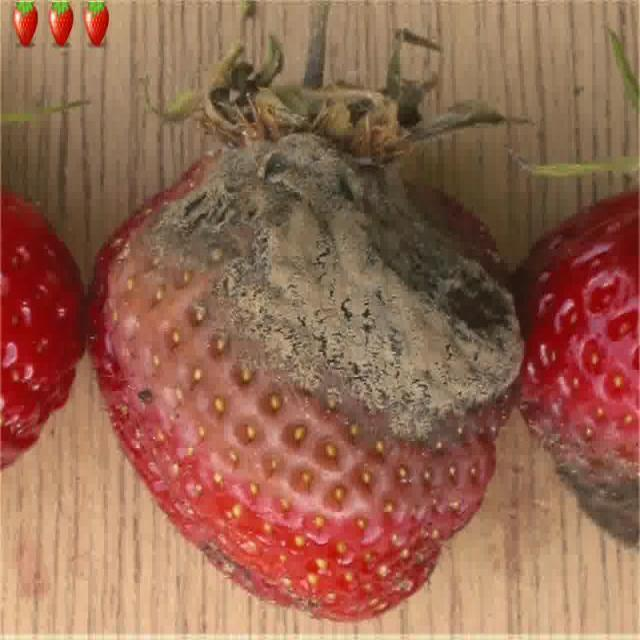Moho gris: (89, 128, 528, 624)
